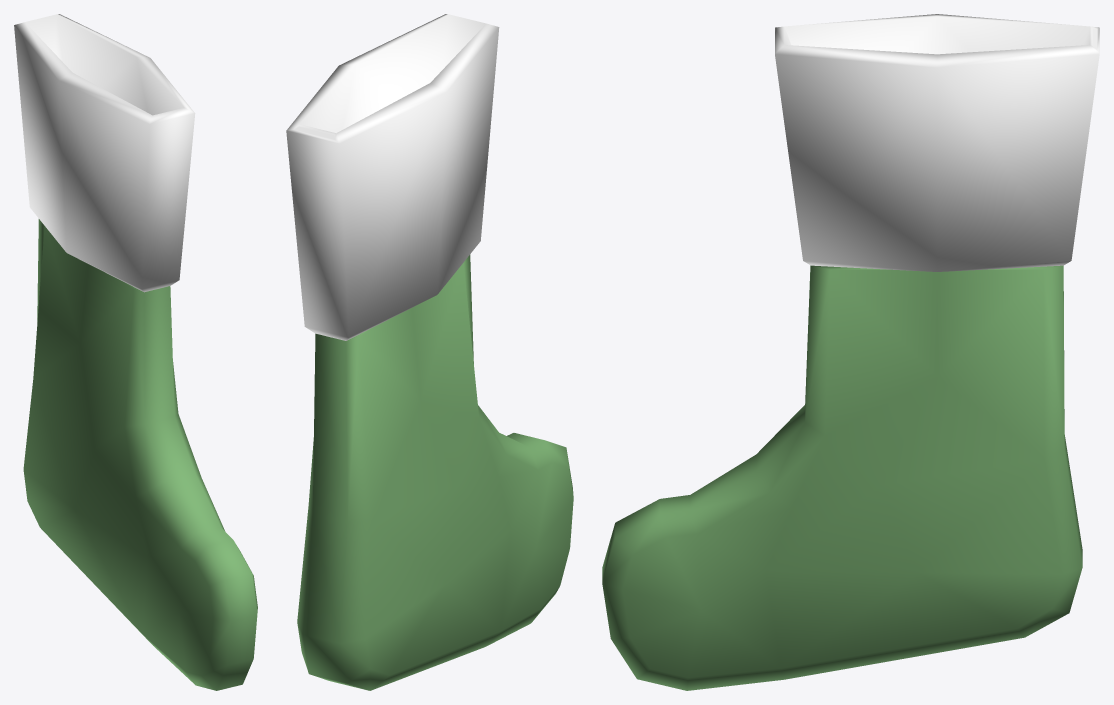
Rendered from SM_Xmas_Stocking_02.obj.
3 renders of one model, left to right at view 1: azimuth 30°, elevation 25°; view 2: azimuth 150°, elevation 25°; view 3: azimuth 270°, elevation 25°, orthographic. The views are drawn at different scales.
Visible parts, largest first — view 1: SM_Xmas_Stocking_02_Mat_SwatchOverlay_PolygonTown_01_Inst; view 2: SM_Xmas_Stocking_02_Mat_SwatchOverlay_PolygonTown_01_Inst; view 3: SM_Xmas_Stocking_02_Mat_SwatchOverlay_PolygonTown_01_Inst.
Part boxes in pixels (bbox=[...]): SM_Xmas_Stocking_02_Mat_SwatchOverlay_PolygonTown_01_Inst: bbox=[14, 14, 257, 690]; SM_Xmas_Stocking_02_Mat_SwatchOverlay_PolygonTown_01_Inst: bbox=[286, 14, 573, 690]; SM_Xmas_Stocking_02_Mat_SwatchOverlay_PolygonTown_01_Inst: bbox=[602, 14, 1099, 690].
Size of the model in its own units: 0.1514 by 0.8509 by 0.5923.
1 material, 1 textured.
